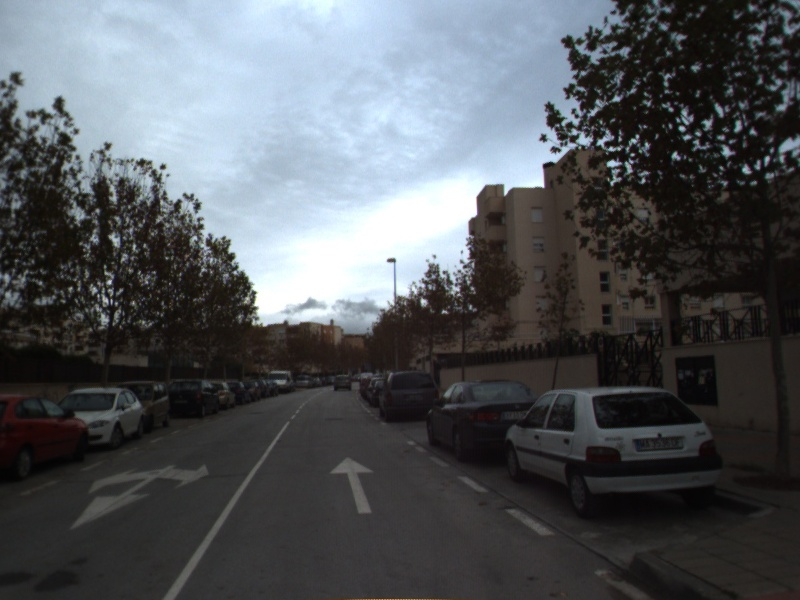STRAIGHT: (328, 454, 376, 515)
